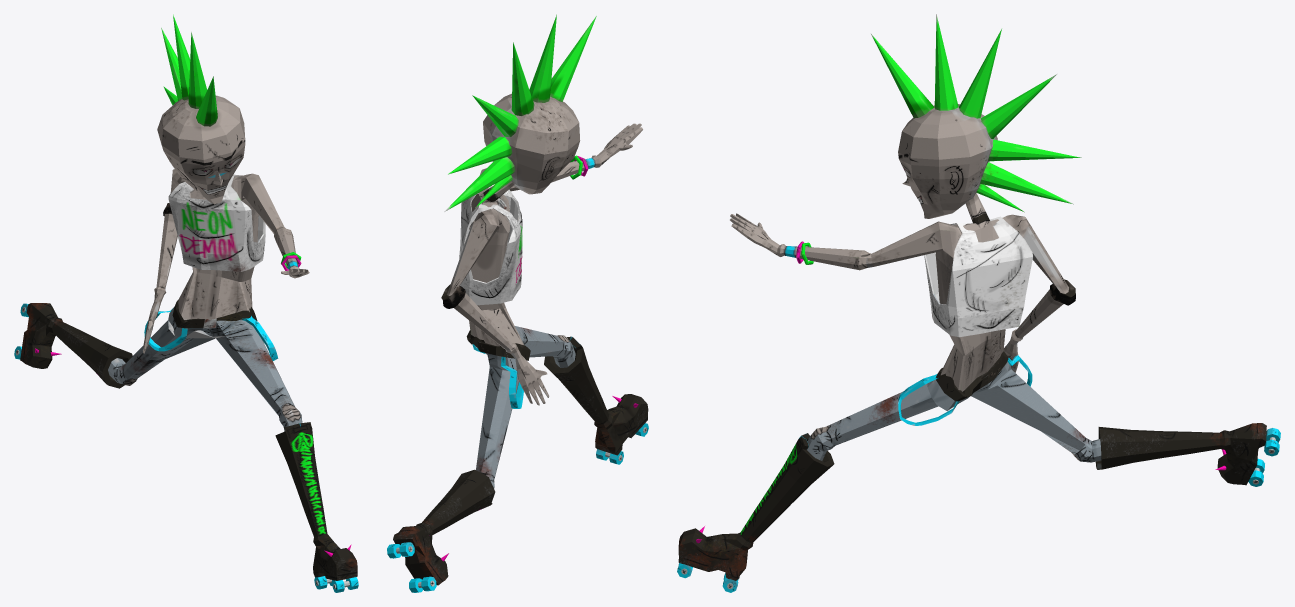
File: punkAnimation_000032.obj
3 views of the same model, side by side, from view 1: azimuth 30°, elevation 25°; view 2: azimuth 150°, elevation 25°; view 3: azimuth 270°, elevation 25° (orthographic). The views are drawn at different scales.
Visible parts, largest first — view 1: Cube.004_Cube.003; view 2: Cube.004_Cube.003; view 3: Cube.004_Cube.003.
Boxes of the visible parts, left/top/right/bottom form: Cube.004_Cube.003: left=14, top=14, right=358, bottom=592; Cube.004_Cube.003: left=387, top=14, right=648, bottom=592; Cube.004_Cube.003: left=677, top=14, right=1280, bottom=592.
Bounding box in the file's own units: 1.52 × 6.39 × 6.34.
